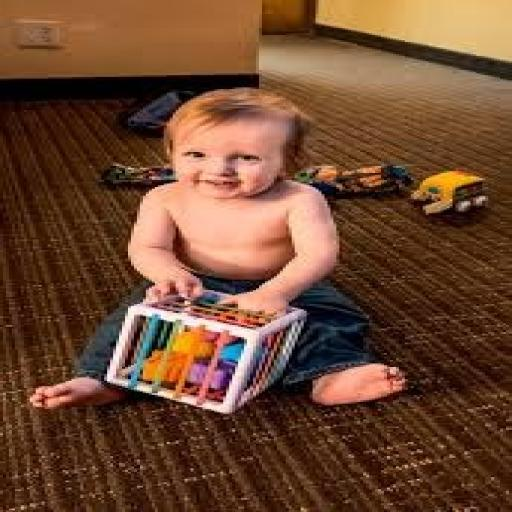baby: (30, 90, 404, 408)
